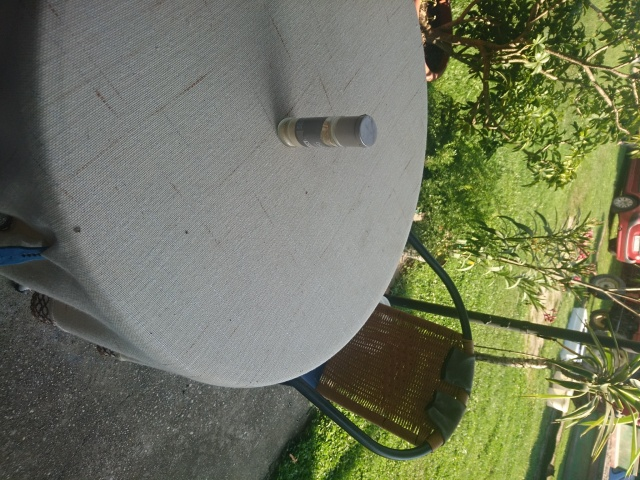Kotanyi Garlic Granules 70g: (272, 112, 380, 149)
